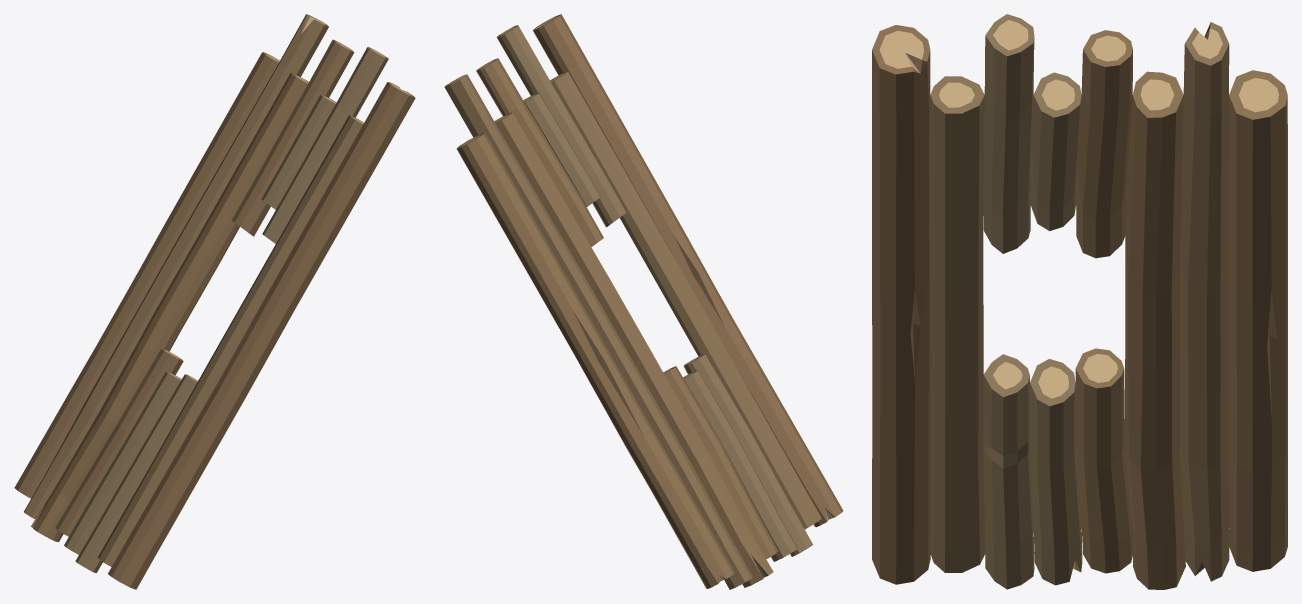
Rendered from rpgpp_ag_roof_01_6x5x3_half_chimney_01.fbx.
3 views of the same model, side by side, from view 1: azimuth 30°, elevation 25°; view 2: azimuth 150°, elevation 25°; view 3: azimuth 270°, elevation 25° (orthographic). The views are drawn at different scales.
Parts seen in each view (by area): view 1: rpgpp_ag_roof_01_6x5x3_half_chimney_01; view 2: rpgpp_ag_roof_01_6x5x3_half_chimney_01; view 3: rpgpp_ag_roof_01_6x5x3_half_chimney_01.
Boxes of the visible parts, bbox=[...] form: rpgpp_ag_roof_01_6x5x3_half_chimney_01: bbox=[14, 14, 415, 589]; rpgpp_ag_roof_01_6x5x3_half_chimney_01: bbox=[444, 14, 843, 589]; rpgpp_ag_roof_01_6x5x3_half_chimney_01: bbox=[872, 14, 1287, 589].
Size of the model in its own units: 4.62 by 6.46 by 3.
